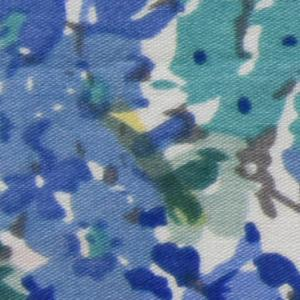Stain: (95, 100, 213, 229)
